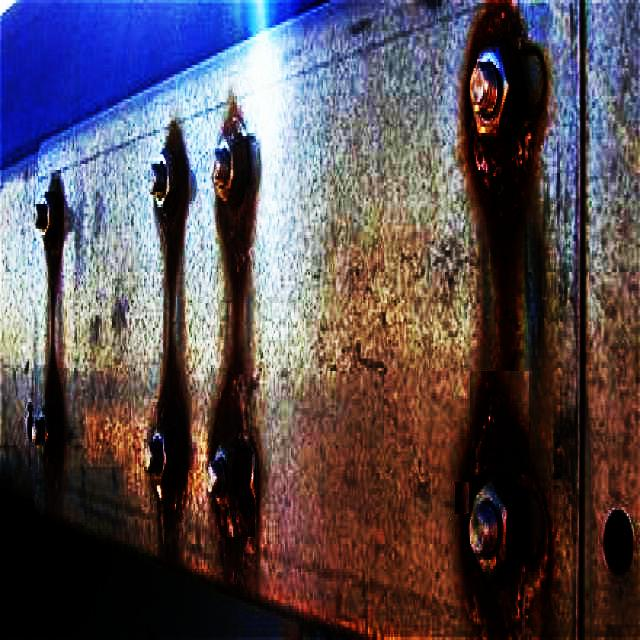Corrosion: (468, 114, 538, 368), (214, 177, 259, 380), (472, 373, 530, 476), (496, 478, 546, 580), (155, 207, 184, 376), (464, 552, 513, 640), (211, 372, 252, 452), (471, 0, 523, 60), (45, 203, 64, 366), (153, 374, 185, 434), (168, 134, 190, 220), (45, 356, 64, 446), (234, 447, 256, 518), (163, 430, 188, 488), (505, 78, 528, 130), (151, 115, 181, 152), (43, 430, 63, 466), (39, 170, 61, 192)
